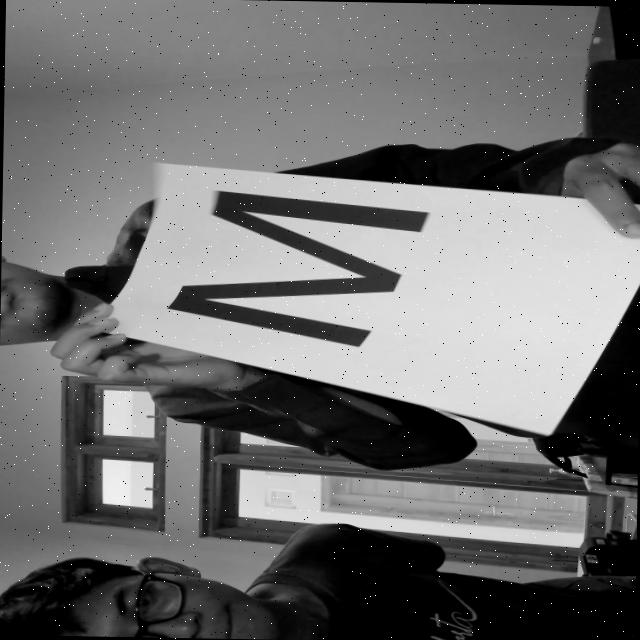m: (164, 187, 460, 360)
